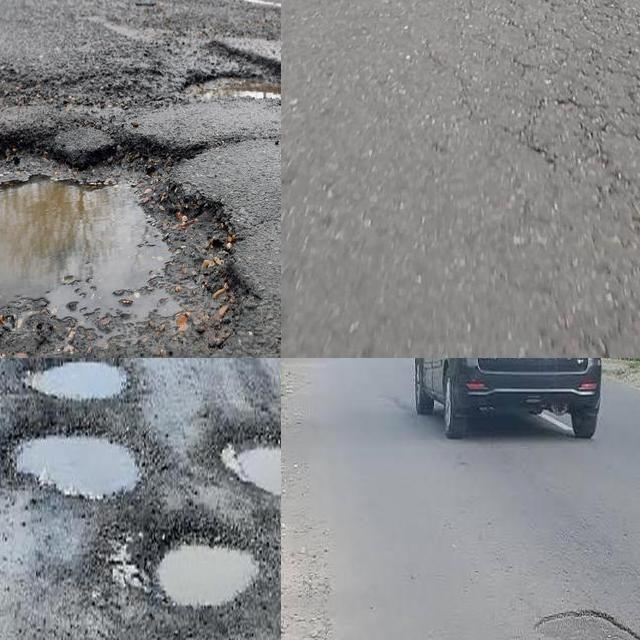Lubang: (0, 132, 245, 358), (10, 429, 150, 503), (149, 529, 257, 607), (19, 358, 122, 403), (531, 609, 636, 640), (227, 435, 281, 495)
